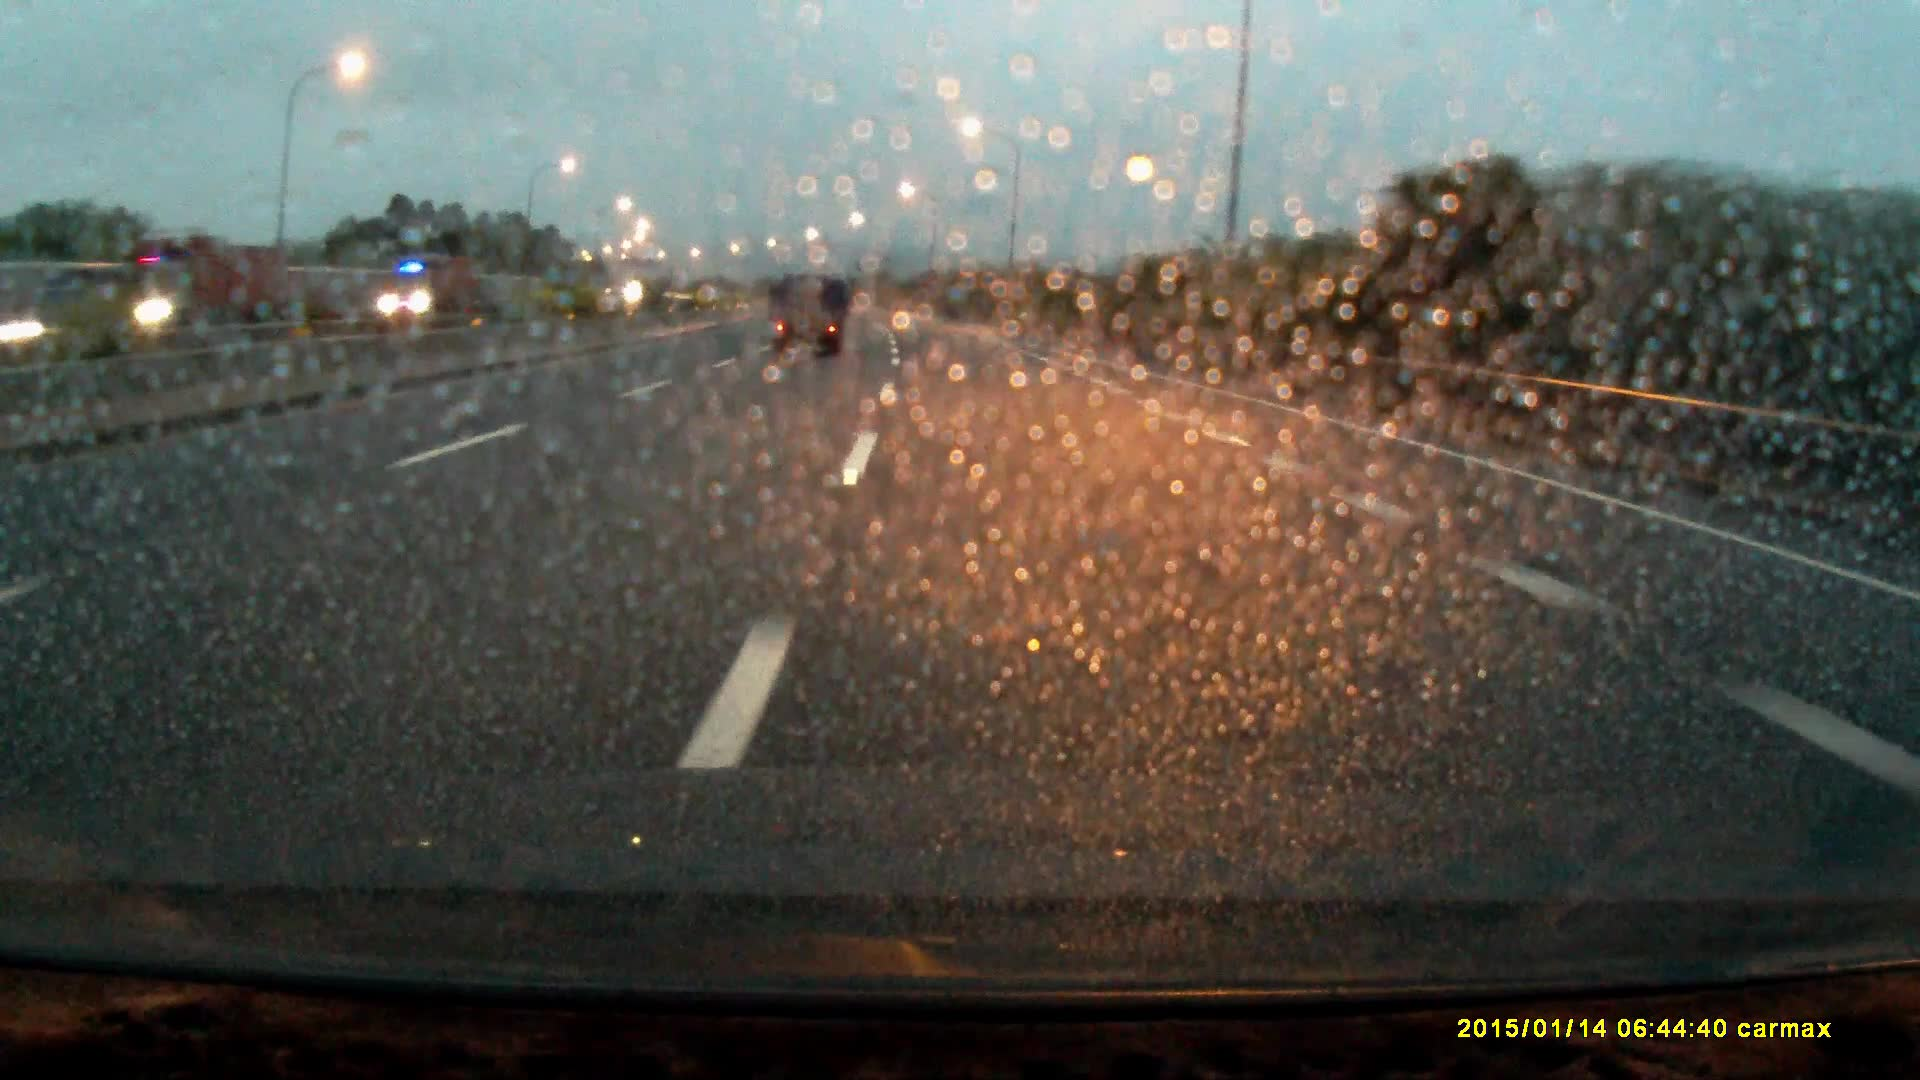vehicle: (91, 237, 280, 334), (767, 273, 848, 361), (375, 252, 477, 319)
